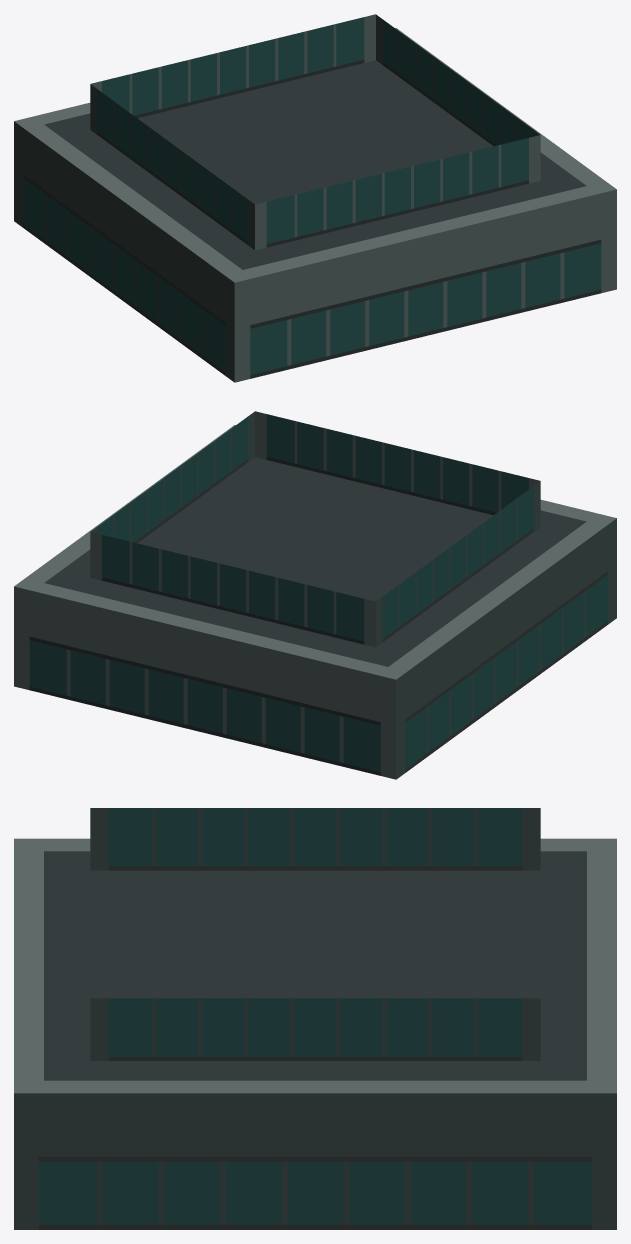
File: TB_CITY_Skysc_N_Lower_Top_Green.FBX
3 renders of one model, top to bottom at view 1: azimuth 30°, elevation 25°; view 2: azimuth 150°, elevation 25°; view 3: azimuth 270°, elevation 25°, orthographic. The views are drawn at different scales.
Parts seen in each view (by area): view 1: TB_CITY_Skysc_N_Lower_Top_Green; view 2: TB_CITY_Skysc_N_Lower_Top_Green; view 3: TB_CITY_Skysc_N_Lower_Top_Green.
Part boxes in pixels (x1,y1,x2,y2): TB_CITY_Skysc_N_Lower_Top_Green: [14, 14, 616, 382]; TB_CITY_Skysc_N_Lower_Top_Green: [14, 411, 616, 779]; TB_CITY_Skysc_N_Lower_Top_Green: [14, 808, 616, 1229].
Bounding box in the file's own units: 20 × 7.3 × 20.
